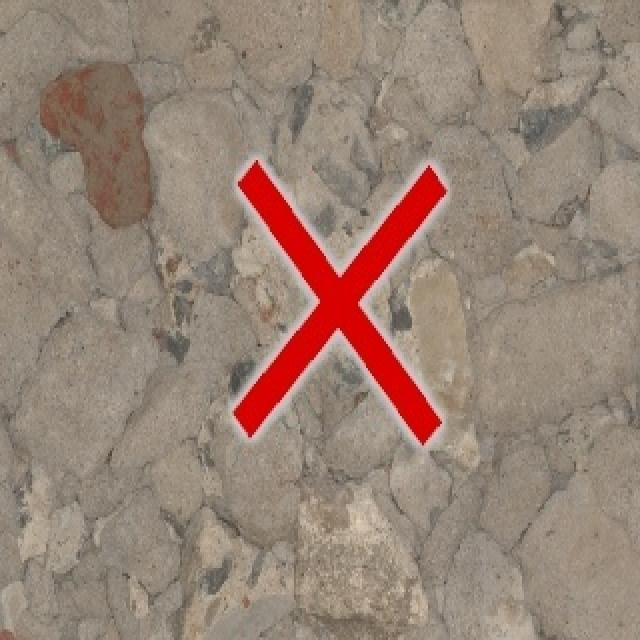x_marker: (233, 159, 445, 444)
